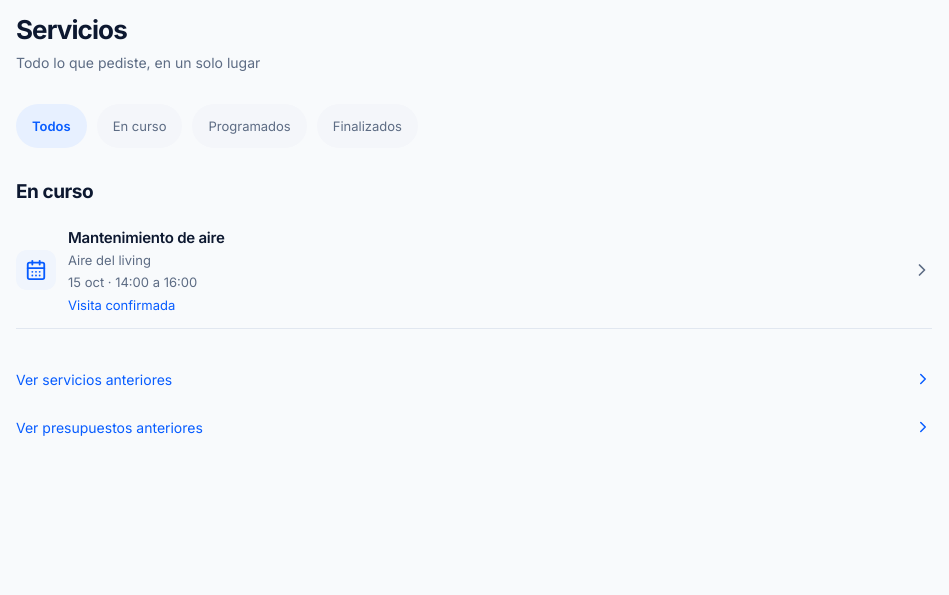
Test case: approved customer Services screen › loads earlier cases without duplicate rows and keeps quote pagination separate
This screenshot has width=949, height=595.
Click the button "Ver servicios anteriores" at (94, 379), box [16, 357, 932, 401]
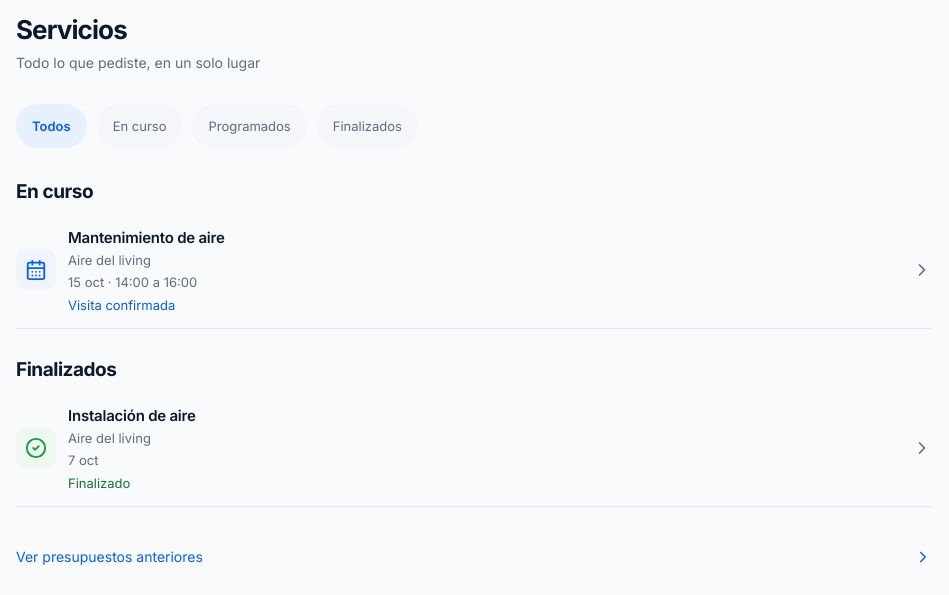
Expected: the text "Mantenimiento de aire" is shown once, [68, 228, 225, 247]
Result: the text "Instalación de aire" is shown at [68, 406, 196, 425]
